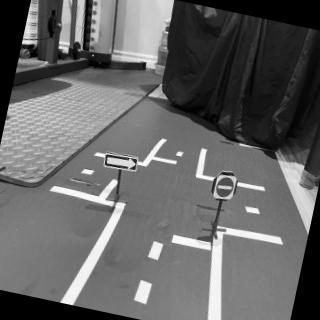sign_noentry: (212, 172, 241, 204)
sign_oneway_right: (104, 149, 143, 177)
